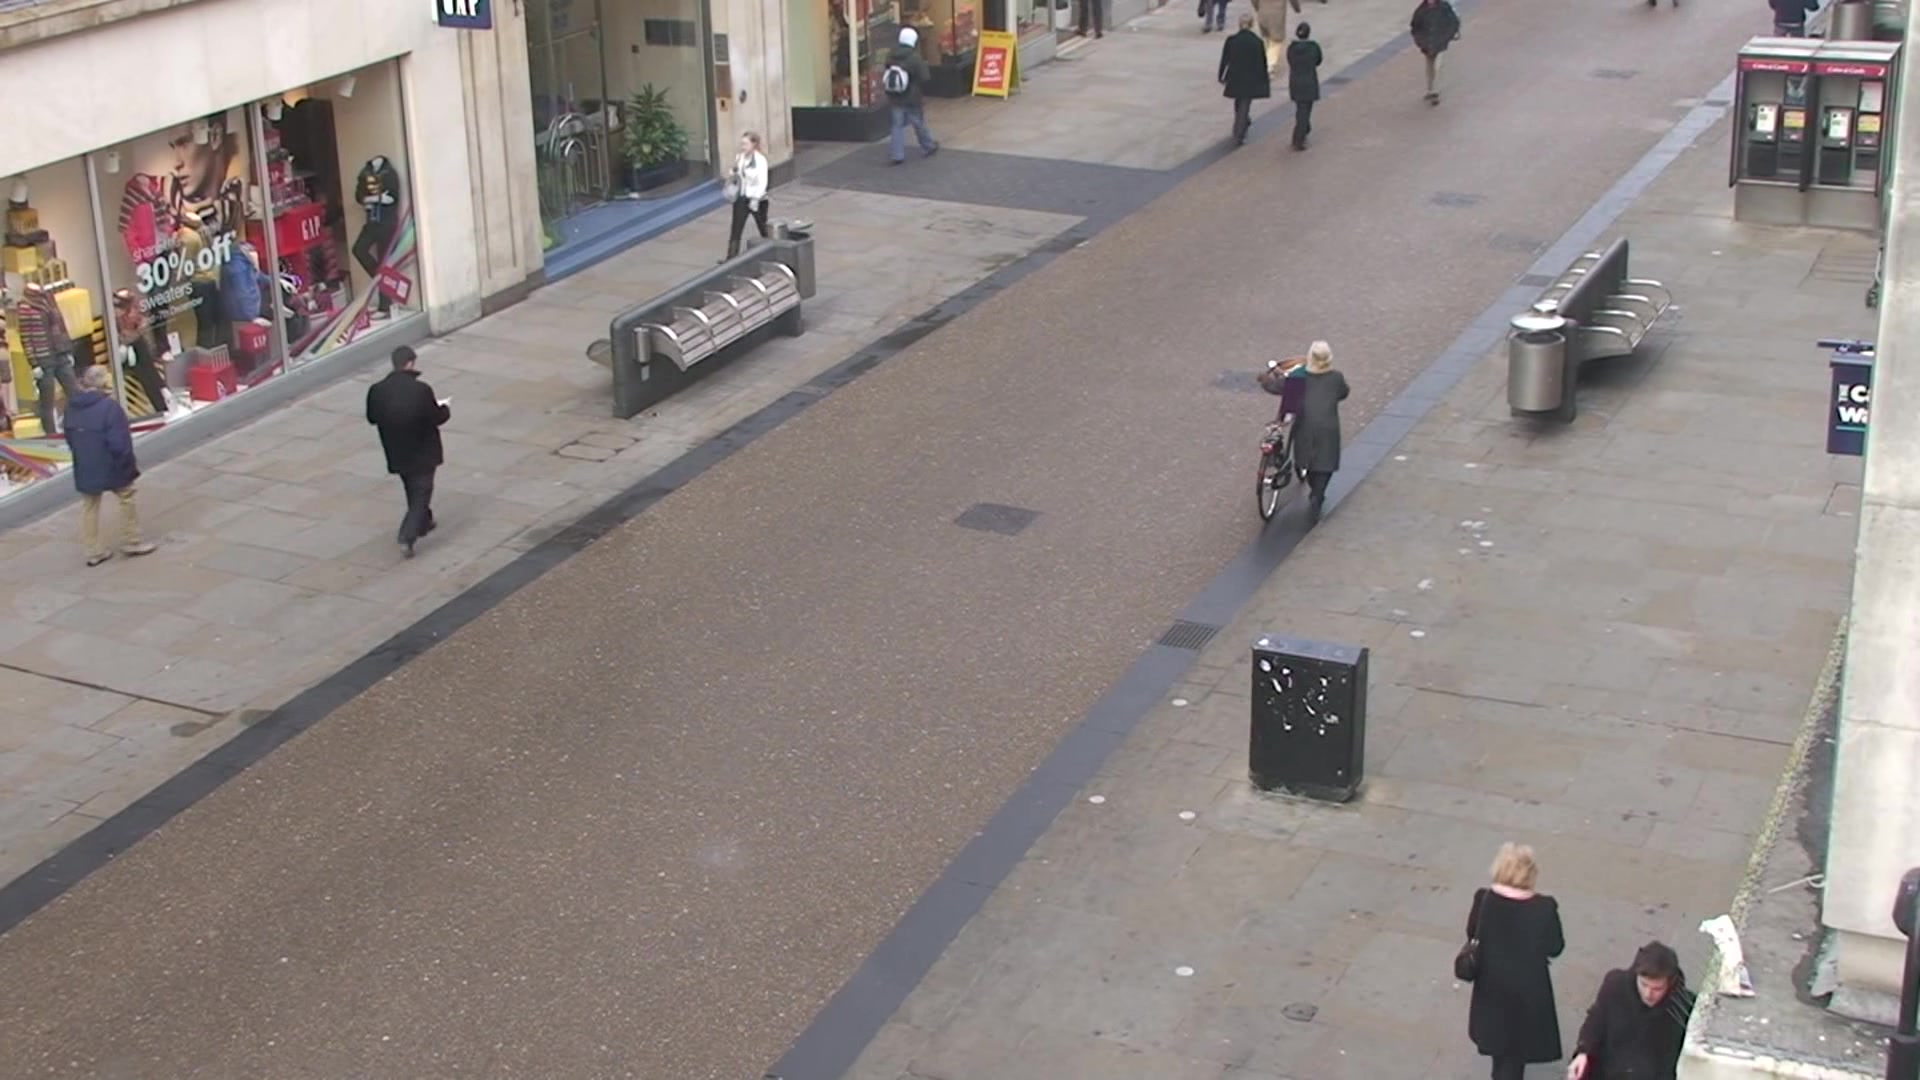person: (61, 365, 161, 567), (365, 347, 450, 561), (1257, 338, 1351, 522), (879, 25, 941, 166), (719, 130, 774, 265), (1218, 12, 1273, 148), (1284, 21, 1325, 151)
